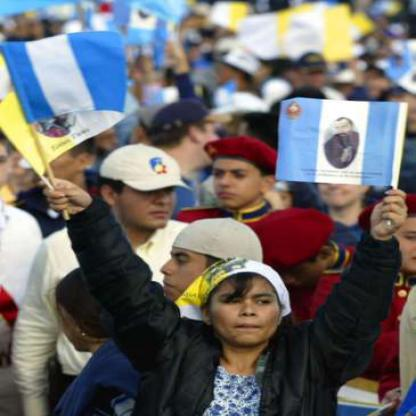face: (210, 265, 284, 346), (161, 224, 223, 307), (118, 159, 184, 229), (209, 143, 266, 208)
